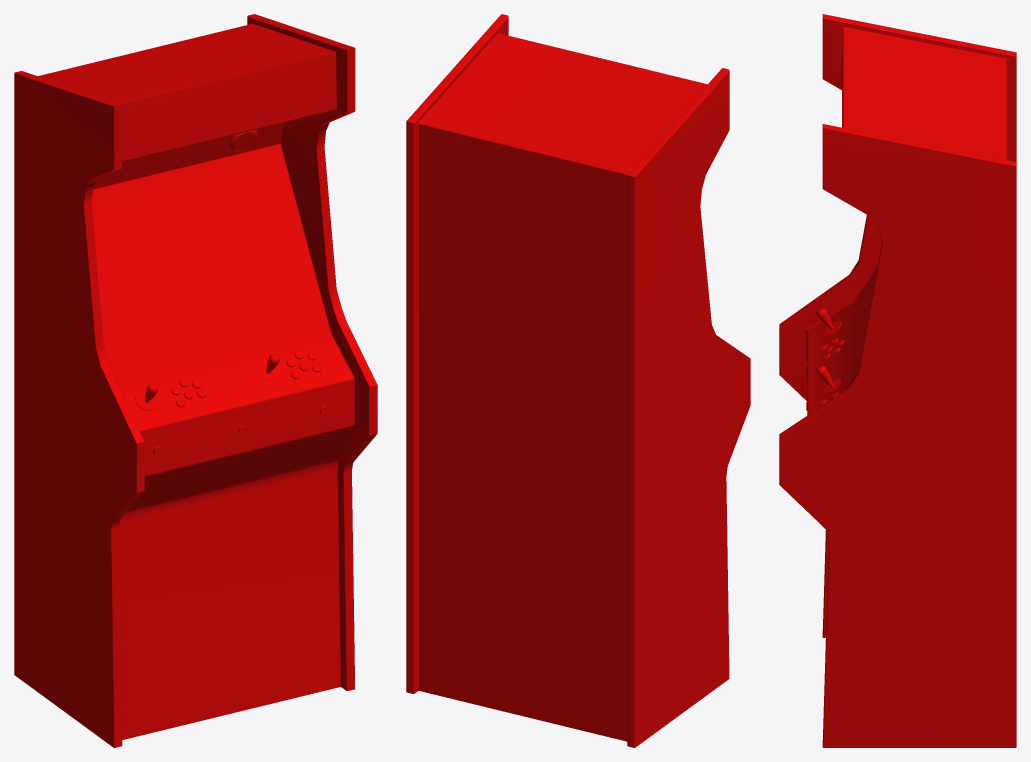
The model's file is space_invaders.fbx.
3 views of the same model, side by side, from view 1: azimuth 30°, elevation 25°; view 2: azimuth 150°, elevation 25°; view 3: azimuth 270°, elevation 25° (orthographic). The views are drawn at different scales.
Visible parts, largest first — view 1: polySurface36; view 2: polySurface36; view 3: polySurface36.
Boxes of the visible parts, left/top/right/bottom form: polySurface36: left=14, top=14, right=377, bottom=747; polySurface36: left=406, top=14, right=750, bottom=747; polySurface36: left=779, top=14, right=1016, bottom=747.
Size of the model in its own units: 88.48 by 225 by 77.87.
